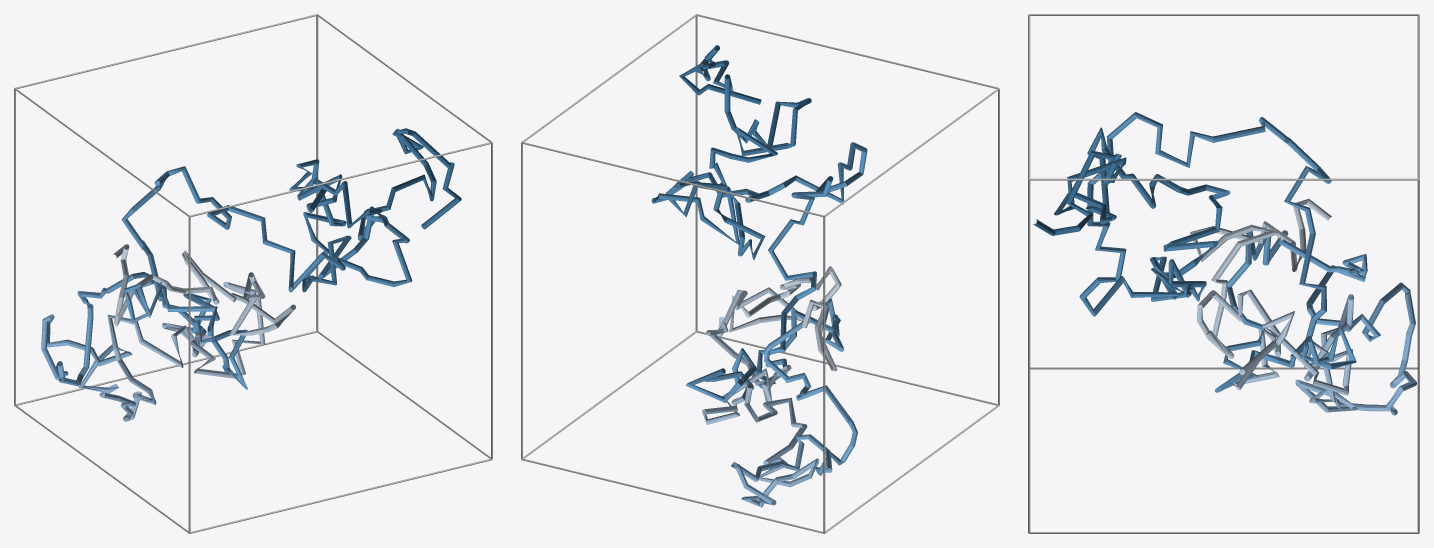
The model's file is BR08_calm.glb.
3 renders of one model, left to right at view 1: azimuth 30°, elevation 25°; view 2: azimuth 150°, elevation 25°; view 3: azimuth 270°, elevation 25°, orthographic. The views are drawn at different scales.
Parts seen in each view (by area): view 1: geometry_0, geometry_1; view 2: geometry_0, geometry_1; view 3: geometry_0, geometry_1.
Part boxes in pixels (x1,y1,x2,y2): geometry_0: [41, 128, 461, 421]; geometry_1: [14, 14, 492, 533]; geometry_0: [651, 45, 867, 507]; geometry_1: [521, 14, 999, 533]; geometry_0: [1032, 112, 1416, 415]; geometry_1: [1028, 14, 1419, 533].
Size of the model in its own units: 0.3016 by 0.3044 by 0.3016.
